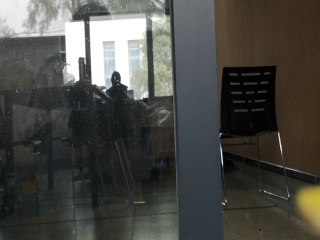room: (7, 3, 308, 234)
